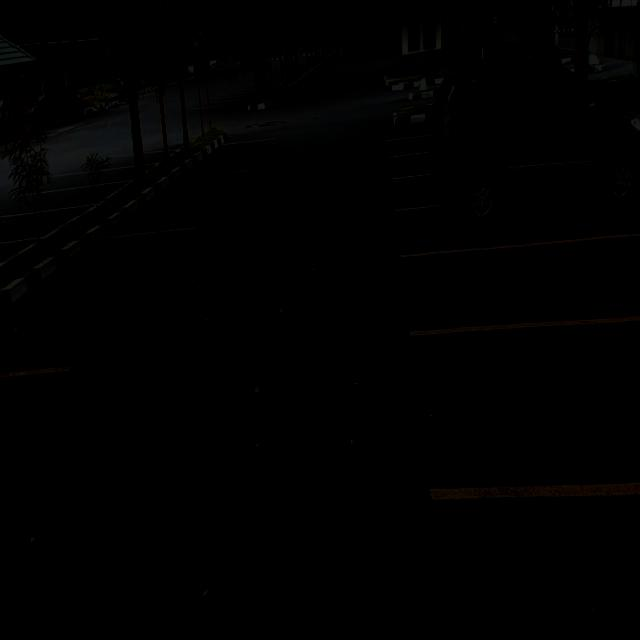empty: (414, 322, 640, 502), (18, 233, 183, 371), (415, 242, 640, 326), (85, 167, 242, 233), (150, 174, 238, 233), (0, 209, 71, 241), (199, 142, 265, 174), (46, 185, 118, 209), (80, 168, 135, 186)
occupied: (420, 106, 640, 249)
